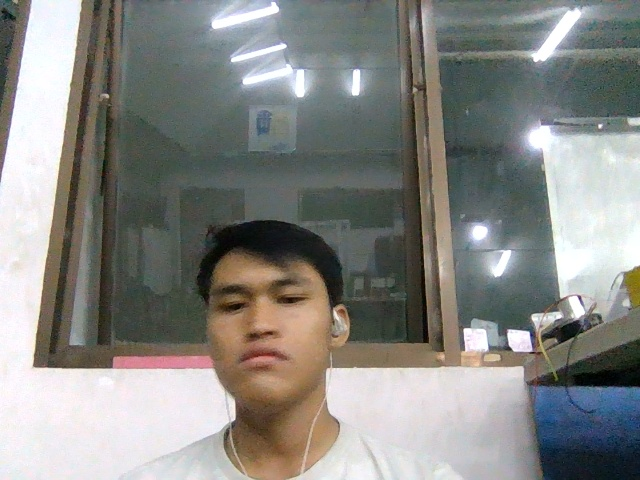mask_off: (213, 325, 326, 402)
